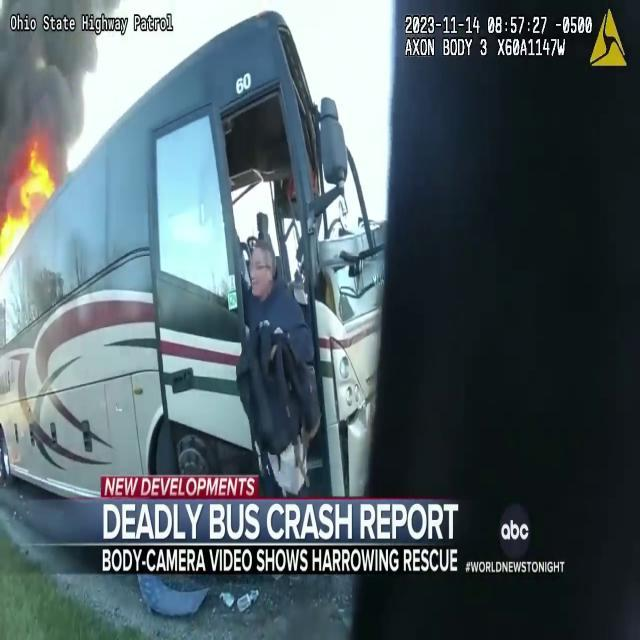Fire: (0, 140, 58, 266)
Smoke: (0, 0, 116, 202)
